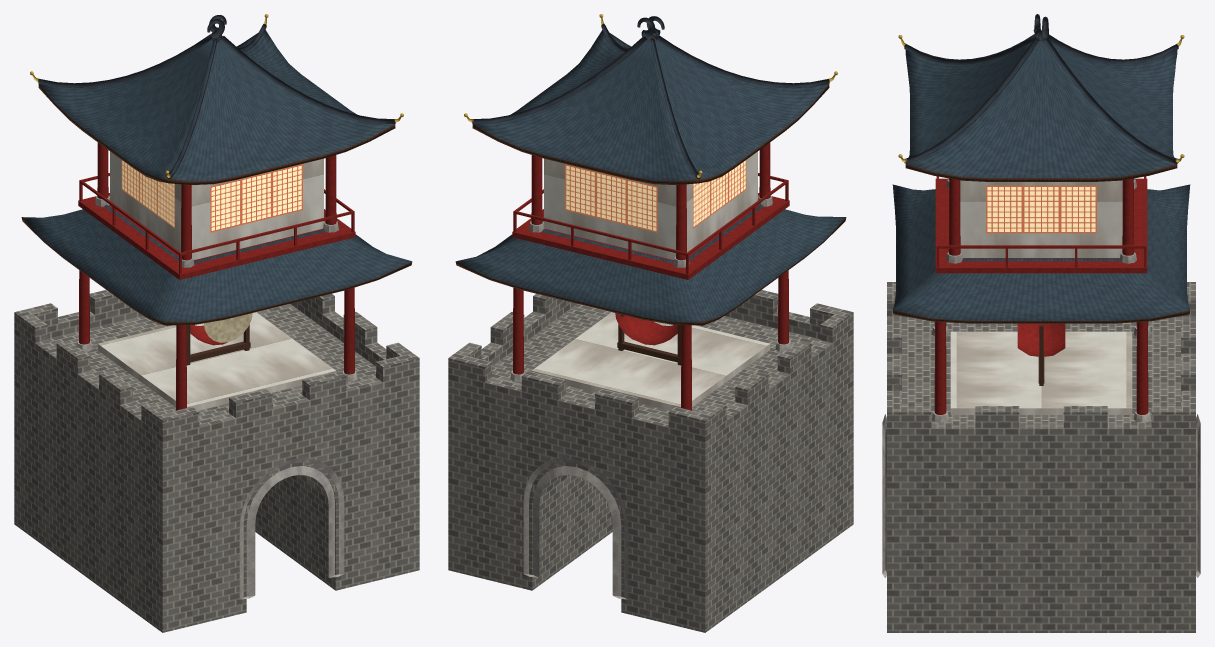
File: drum_tower.glb
3 renders of one model, left to right at view 1: azimuth 30°, elevation 25°; view 2: azimuth 150°, elevation 25°; view 3: azimuth 270°, elevation 25°, orthographic. The views are drawn at different scales.
Visible parts, largest first — view 1: DrumTowerArchBlock, DrumTowerCap, DrumTowerEave0, DrumTowerBattlements, DrumTowerWalls, DrumTowerWindows, DrumTowerBalconies, DrumTowerPillars, DrumTowerArchRing, DrumTowerCapRidges, DrumHead, DrumStand (+1 smaller); view 2: DrumTowerArchBlock, DrumTowerCap, DrumTowerEave0, DrumTowerBattlements, DrumTowerWalls, DrumTowerWindows, DrumTowerBalconies, DrumTowerPillars, DrumTowerArchRing, DrumTowerCapRidges, Drum, DrumStand (+1 smaller); view 3: DrumTowerArchBlock, DrumTowerCap, DrumTowerEave0, DrumTowerWalls, DrumTowerBattlements, DrumTowerBalconies, DrumTowerWindows, DrumTowerPillars, DrumTowerCapRidges, DrumTowerArchRing, Drum, DrumTowerPillarBases.
Part boxes in pixels (left/top/right/bottom): DrumTowerArchBlock: left=14, top=304, right=419, bottom=632; DrumTowerCap: left=38, top=30, right=395, bottom=184; DrumTowerEave0: left=21, top=204, right=412, bottom=325; DrumTowerBattlements: left=14, top=290, right=419, bottom=449; DrumTowerWalls: left=97, top=151, right=336, bottom=410; DrumTowerWindows: left=121, top=160, right=302, bottom=232; DrumTowerBalconies: left=78, top=173, right=355, bottom=279; DrumTowerPillars: left=79, top=142, right=354, bottom=410; DrumTowerArchRing: left=239, top=458, right=344, bottom=599; DrumTowerCapRidges: left=38, top=15, right=395, bottom=178; DrumHead: left=204, top=313, right=252, bottom=342; DrumStand: left=186, top=324, right=250, bottom=365; DrumTowerArchBlock: left=448, top=304, right=853, bottom=632; DrumTowerCap: left=472, top=30, right=829, bottom=184; DrumTowerEave0: left=455, top=204, right=846, bottom=325; DrumTowerBattlements: left=448, top=290, right=853, bottom=449; DrumTowerWalls: left=531, top=151, right=770, bottom=410; DrumTowerWindows: left=565, top=160, right=746, bottom=232; DrumTowerBalconies: left=512, top=173, right=789, bottom=279; DrumTowerPillars: left=513, top=142, right=788, bottom=410; DrumTowerArchRing: left=523, top=458, right=628, bottom=599; DrumTowerCapRidges: left=472, top=16, right=829, bottom=178; Drum: left=615, top=313, right=677, bottom=345; DrumStand: left=617, top=314, right=681, bottom=365; DrumTowerArchBlock: left=887, top=317, right=1195, bottom=632; DrumTowerCap: left=905, top=37, right=1177, bottom=181; DrumTowerEave0: left=892, top=184, right=1190, bottom=323; DrumTowerWalls: left=950, top=180, right=1132, bottom=414; DrumTowerBattlements: left=887, top=282, right=1195, bottom=441; DrumTowerBalconies: left=935, top=176, right=1147, bottom=273; DrumTowerWindows: left=986, top=185, right=1096, bottom=233; DrumTowerPillars: left=934, top=178, right=1148, bottom=414; DrumTowerCapRidges: left=904, top=14, right=1178, bottom=163; DrumTowerArchRing: left=882, top=414, right=1200, bottom=577; Drum: left=1017, top=323, right=1065, bottom=356; DrumTowerPillarBases: left=932, top=179, right=1150, bottom=422.
Size of what is drawn, in the model's own units: 10.4 by 20.5 by 10.72.
Materials: 11 (11 with a texture image).
